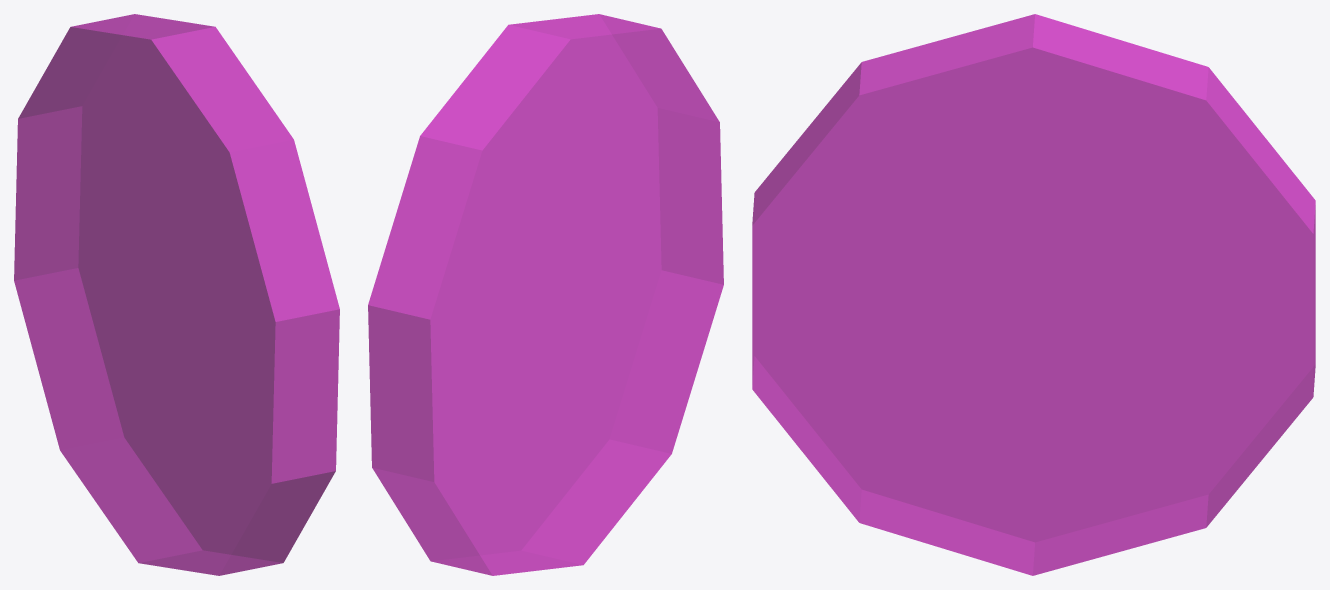
File: SM_Veh_Cart_01_Wheel_Left_01_Collision.fbx
3 views of the same model, side by side, from view 1: azimuth 30°, elevation 25°; view 2: azimuth 150°, elevation 25°; view 3: azimuth 270°, elevation 25° (orthographic). The views are drawn at different scales.
Parts seen in each view (by area): view 1: SM_Veh_Cart_01_Wheel_Left_01_Collision; view 2: SM_Veh_Cart_01_Wheel_Left_01_Collision; view 3: SM_Veh_Cart_01_Wheel_Left_01_Collision.
Boxes of the visible parts, left/top/right/bottom form: SM_Veh_Cart_01_Wheel_Left_01_Collision: left=14, top=14, right=339, bottom=575; SM_Veh_Cart_01_Wheel_Left_01_Collision: left=368, top=14, right=723, bottom=575; SM_Veh_Cart_01_Wheel_Left_01_Collision: left=752, top=14, right=1315, bottom=575.
Bounding box in the file's own units: 17.08 × 102 × 97.55.
